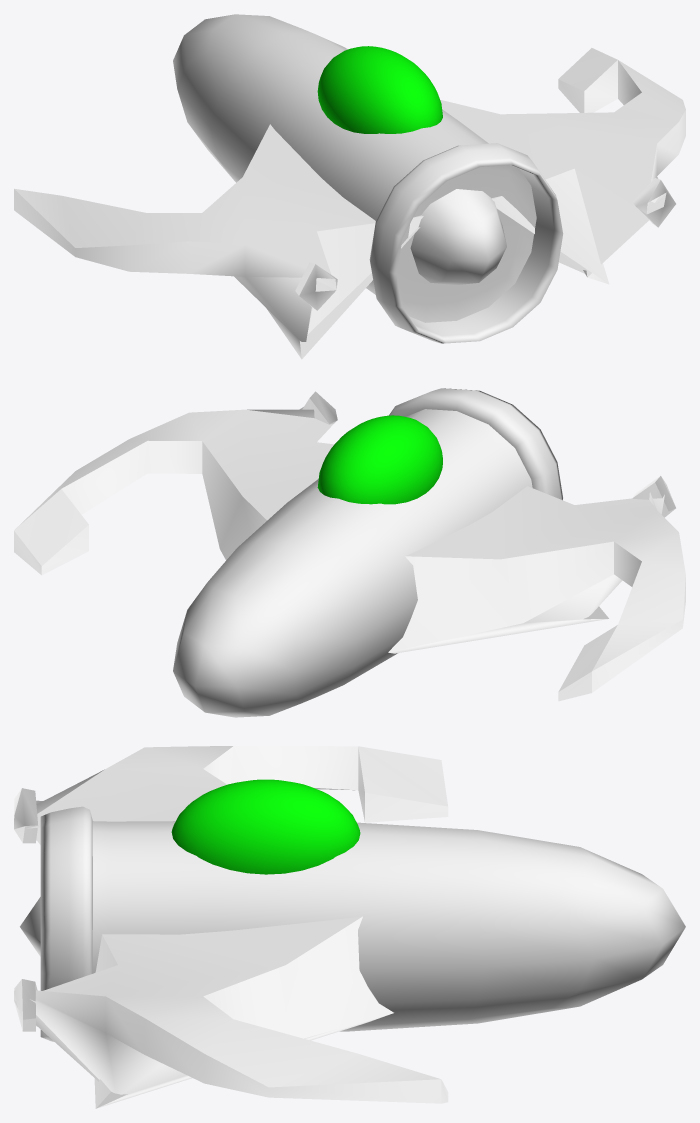
The model's file is spaceship-metallic.glb.
3 views of the same model, one above another, from view 1: azimuth 30°, elevation 25°; view 2: azimuth 150°, elevation 25°; view 3: azimuth 270°, elevation 25° (orthographic). The views are drawn at different scales.
Parts seen in each view (by area): view 1: BodyWings, BodyMain, BodyDome; view 2: BodyWings, BodyMain, BodyDome; view 3: BodyMain, BodyWings, BodyDome.
Part boxes in pixels (x1,y1,x2,y2): BodyWings: [14, 48, 685, 359]; BodyMain: [173, 14, 563, 343]; BodyDome: [317, 46, 442, 133]; BodyWings: [14, 391, 685, 701]; BodyMain: [173, 388, 562, 717]; BodyDome: [317, 415, 442, 504]; BodyMain: [20, 806, 685, 1041]; BodyWings: [14, 746, 448, 1108]; BodyDome: [171, 779, 360, 874].
Bounding box in the file's own units: 7.51 × 2.6 × 6.36.
